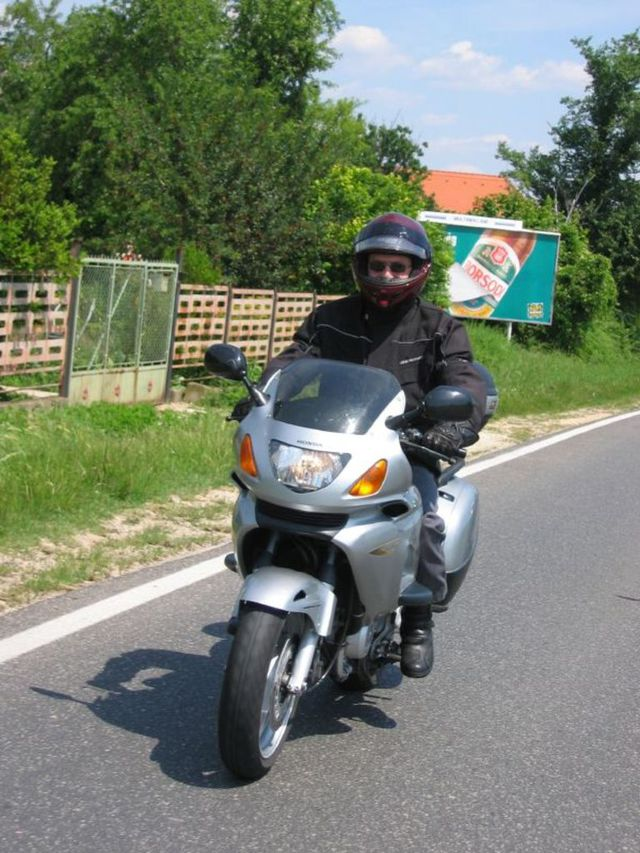helmet: (352, 209, 426, 311)
